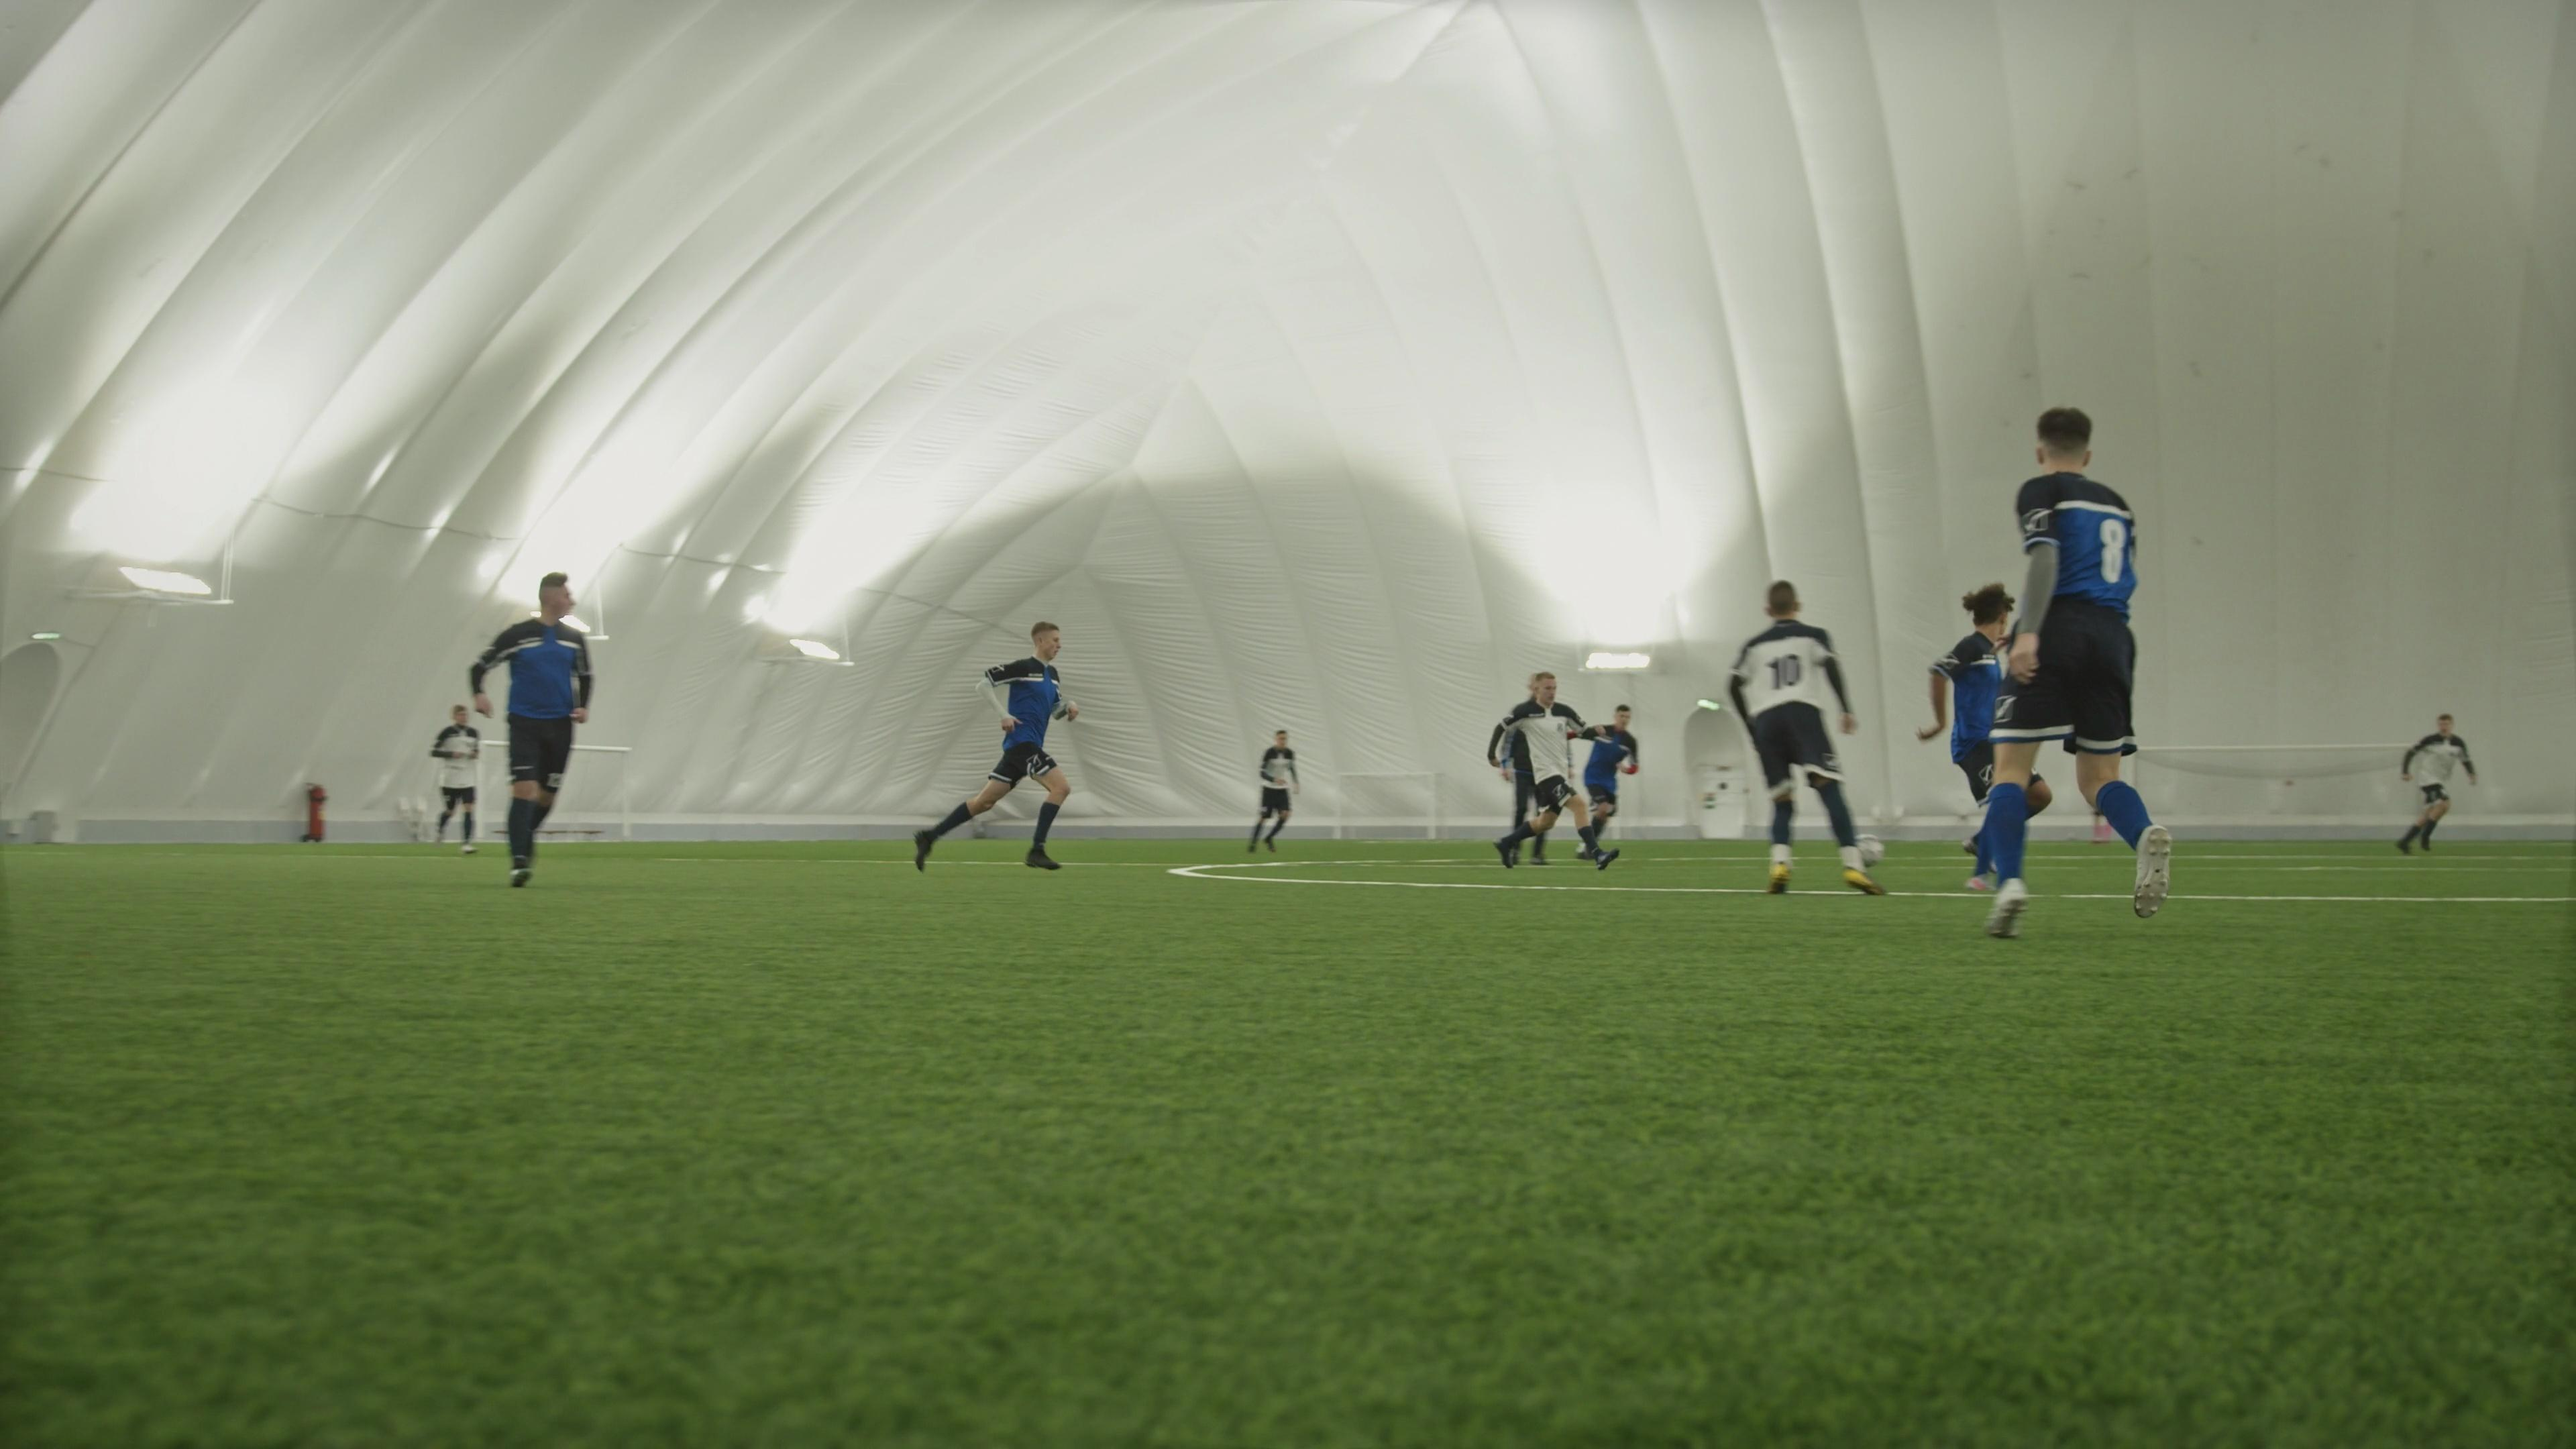team1: (1974, 409, 2173, 934), (467, 570, 598, 890), (915, 617, 1076, 874), (1928, 582, 2020, 899), (1575, 706, 1637, 874)
team2: (1723, 579, 1884, 895), (1483, 671, 1589, 870), (2399, 706, 2482, 853), (428, 688, 487, 847), (1247, 727, 1299, 860)
